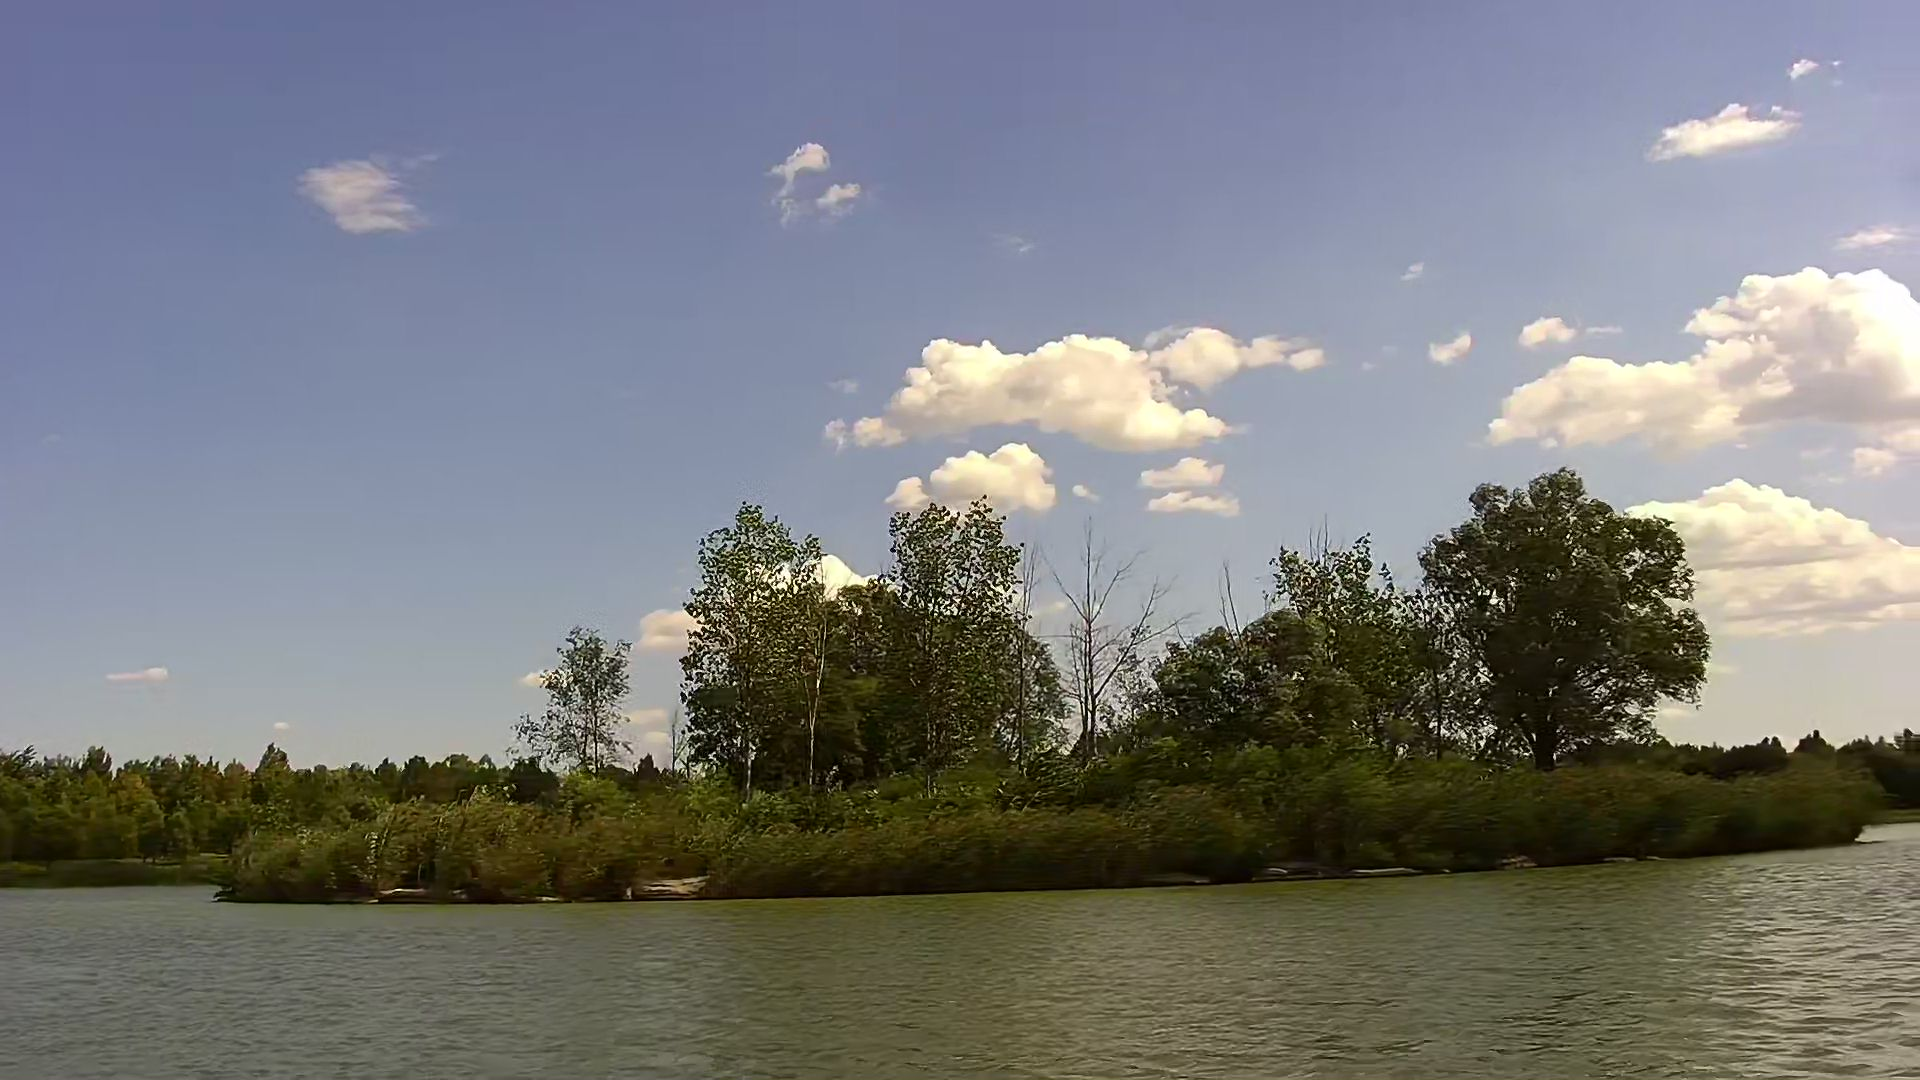rock: (628, 876, 712, 898), (373, 885, 456, 902), (1350, 860, 1414, 880), (1261, 857, 1295, 876), (1494, 851, 1535, 865), (1611, 853, 1665, 862)
